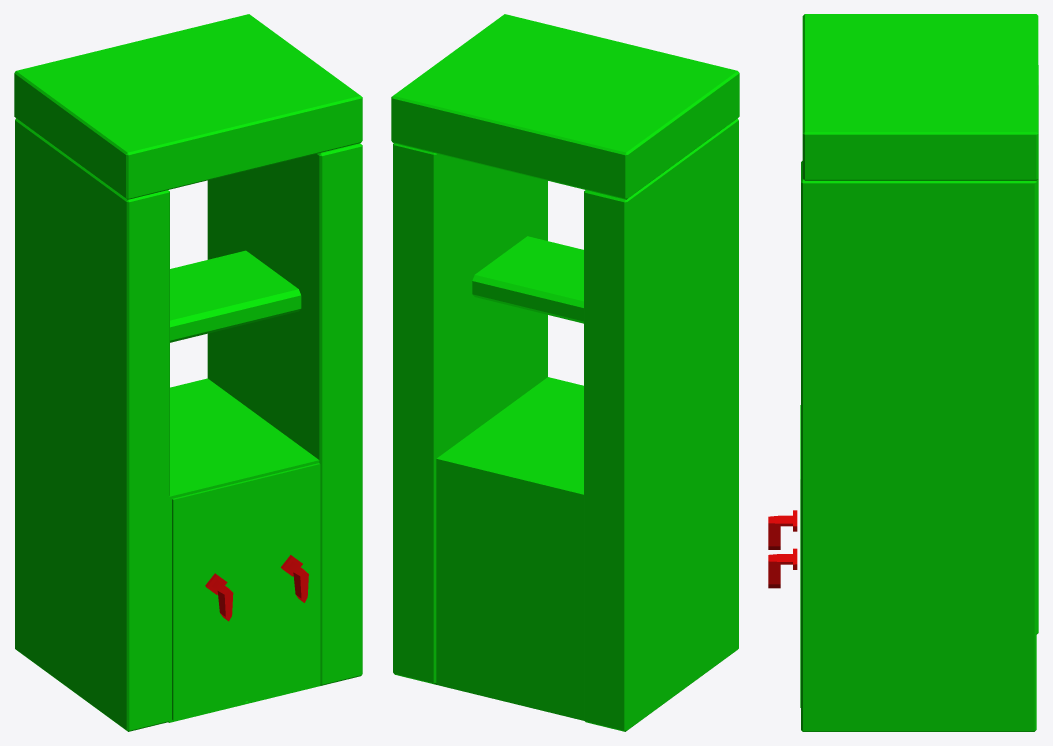
File: Armario_3.fbx
3 renders of one model, left to right at view 1: azimuth 30°, elevation 25°; view 2: azimuth 150°, elevation 25°; view 3: azimuth 270°, elevation 25°, orthographic. The views are drawn at different scales.
Parts seen in each view (by area): view 1: Armario_2; view 2: Armario_2; view 3: Armario_2.
Part boxes in pixels (x1,y1,x2,y2): Armario_2: [14, 14, 362, 731]; Armario_2: [391, 14, 739, 731]; Armario_2: [768, 14, 1038, 731].
Size of the model in its own units: 131 by 308 by 126.
